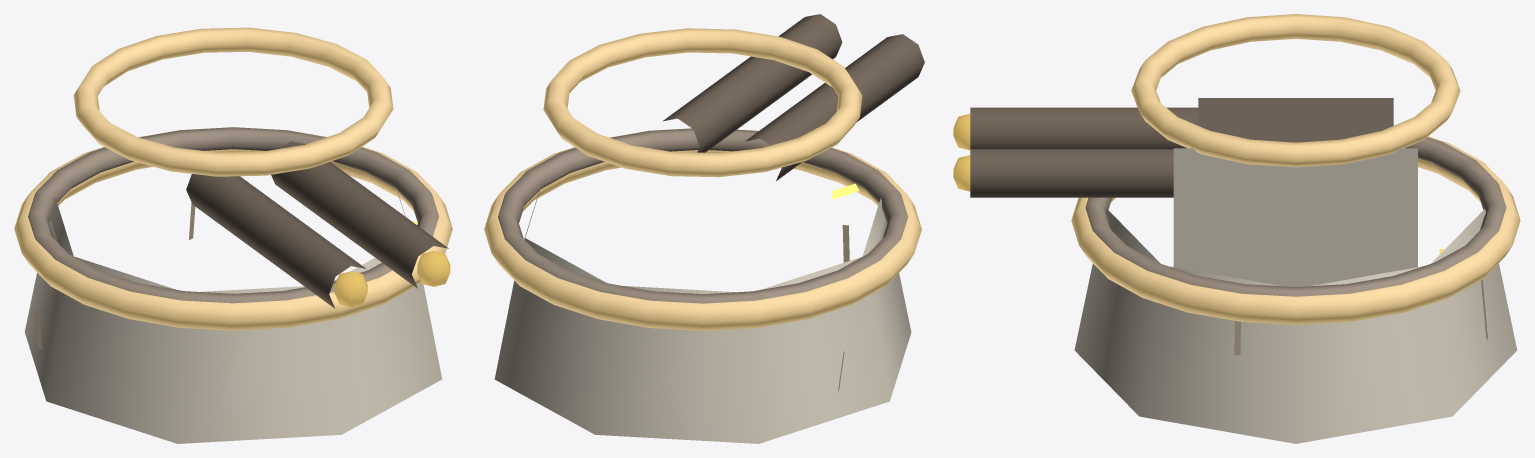
Rendered from tower_gun_2.glb.
3 renders of one model, left to right at view 1: azimuth 30°, elevation 25°; view 2: azimuth 150°, elevation 25°; view 3: azimuth 270°, elevation 25°, orthographic. The views are drawn at different scales.
Visible parts, largest first — view 1: base, turret; view 2: base, turret; view 3: base, turret.
Part boxes in pixels (x1,y1,x2,y2): base: (14, 27, 452, 443); turret: (186, 141, 450, 308); base: (484, 28, 921, 443); turret: (663, 14, 924, 180); base: (1071, 14, 1520, 443); turret: (953, 98, 1417, 286).
Bounding box in the file's own units: 2.76 × 1.99 × 3.48.
